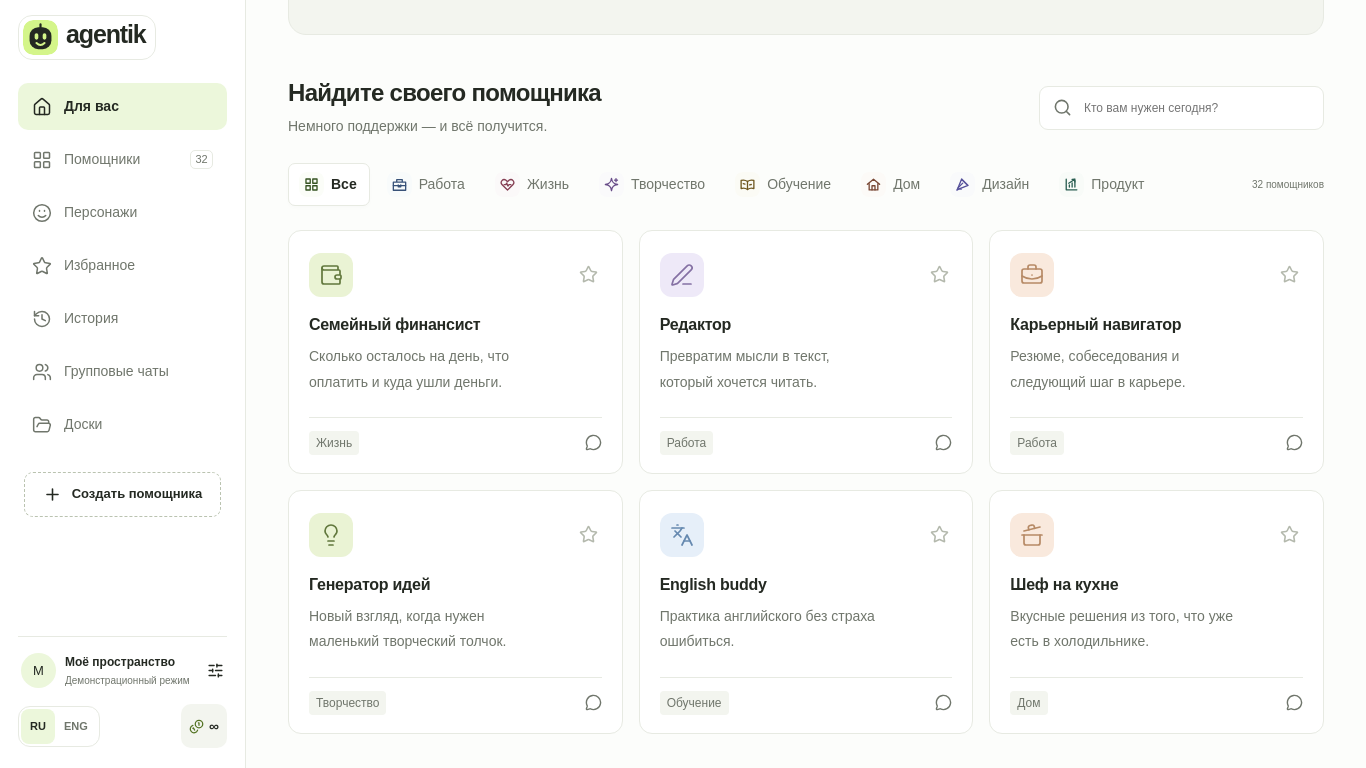
hides onboarding after the first saved chat and shows only configured announcements on home
Later steps or results of the test are not shown.
(page scrolled)
Click the link with aria-label "Открыть: Редактор": point(806, 385) [640, 297, 972, 473]
(page scrolled)
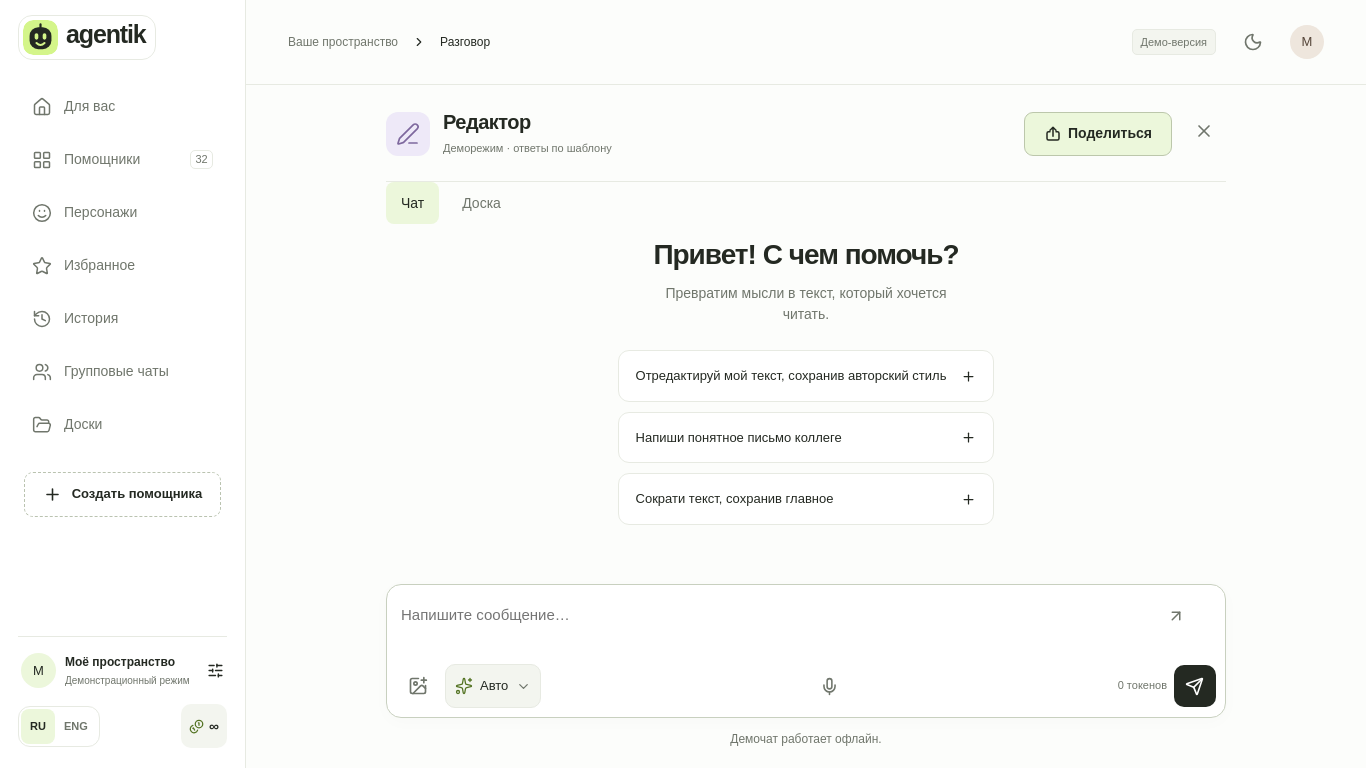
In the text box named "Ваше сообщение": point(806, 626) [396, 594, 1216, 659], type "Первый разговор"
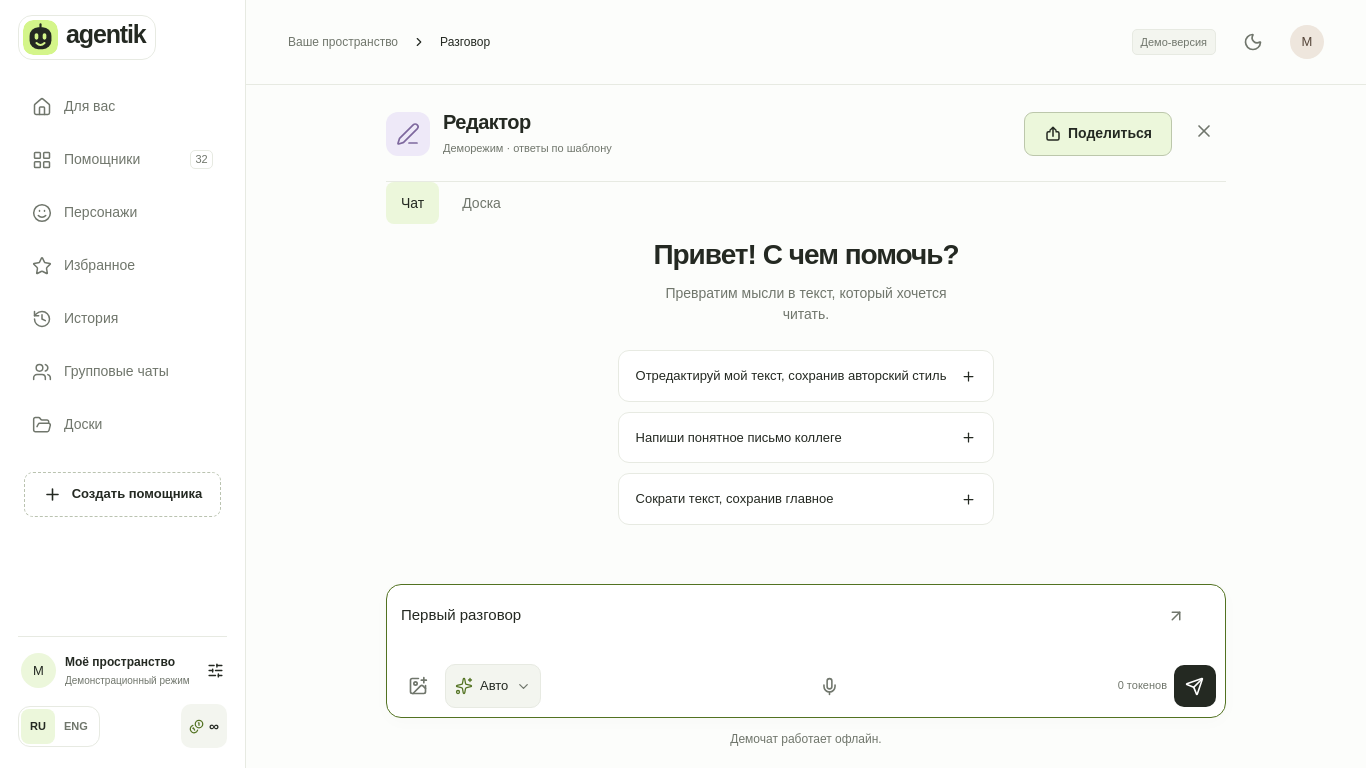
Click the button named "Отправить сообщение": point(1195, 686) [1174, 665, 1216, 707]
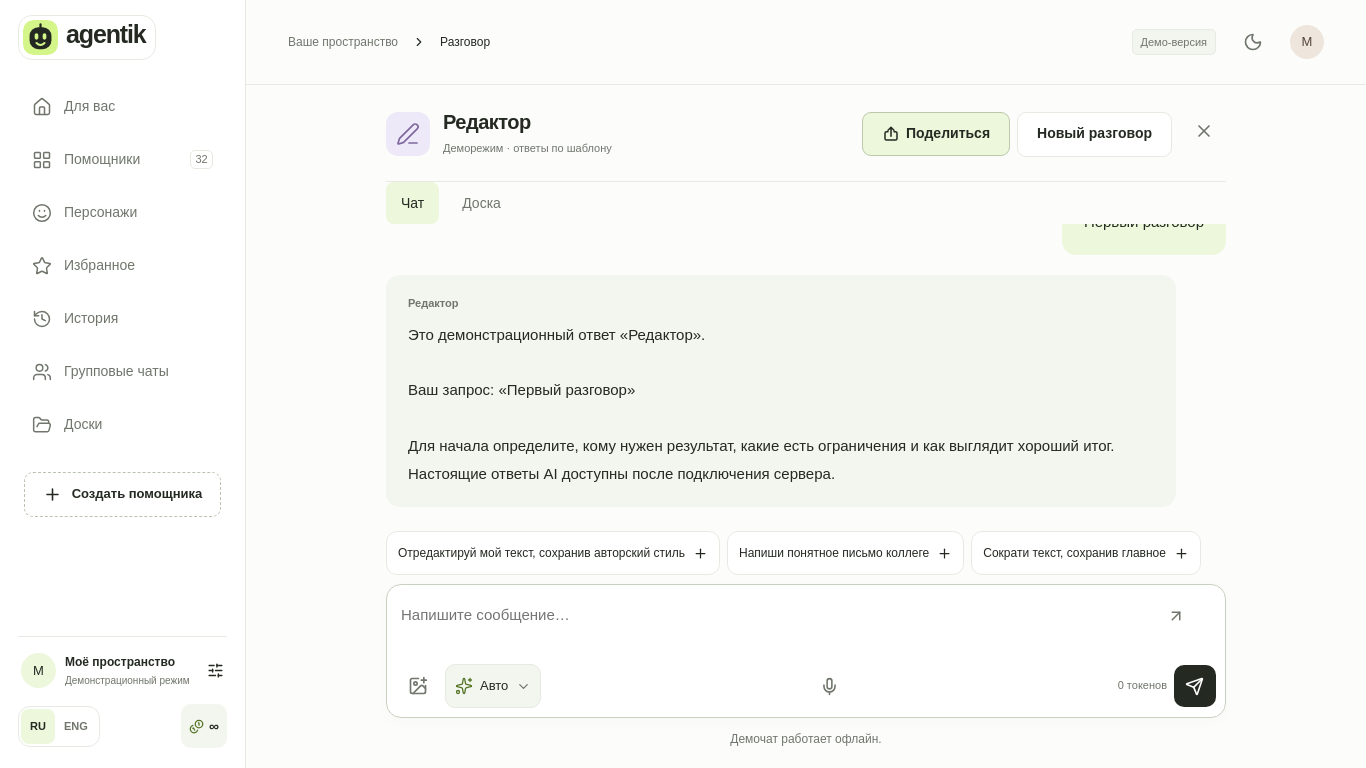
Expected: the text "Это демонстрационный ответ" is shown, [408, 326, 1119, 482]
Click the link "Для вас": point(74, 106) [32, 96, 115, 116]
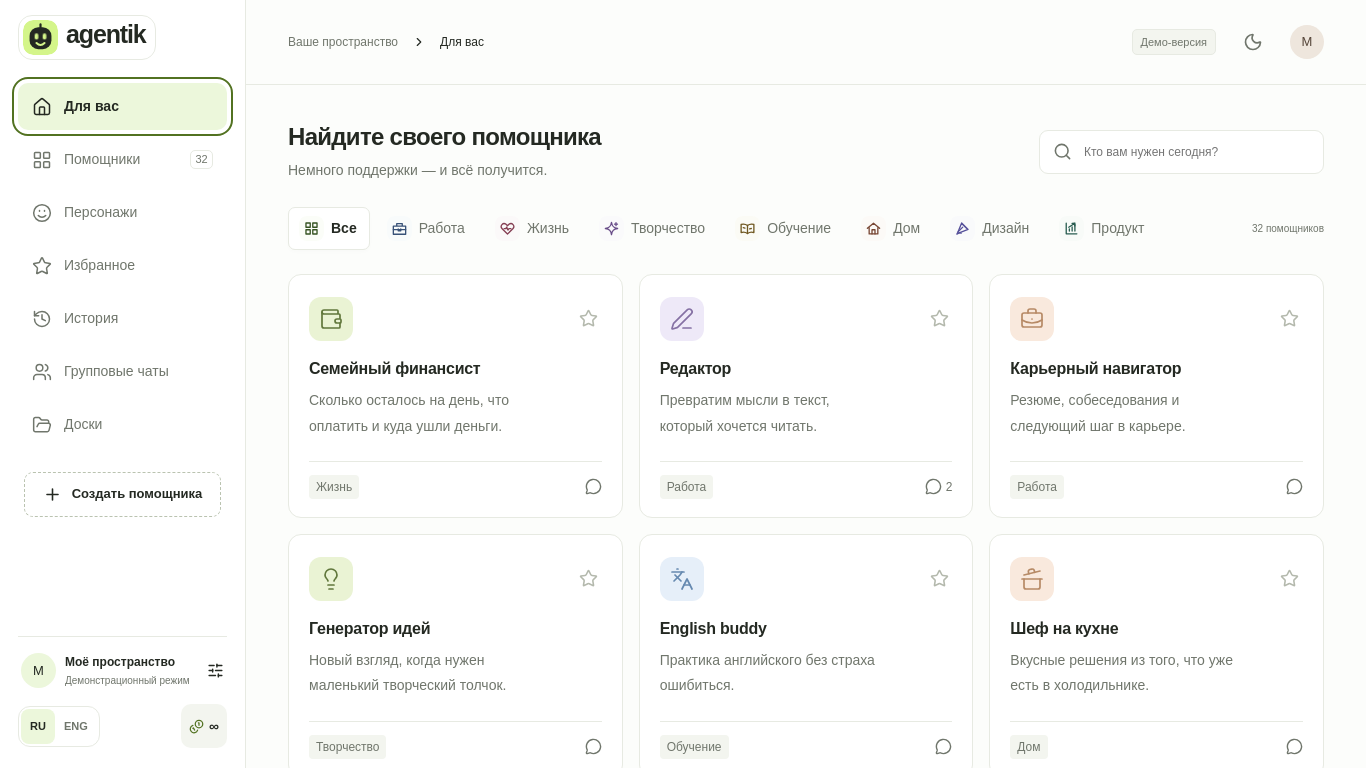
Expected: the heading "Найдите своего помощника" is shown, [288, 121, 601, 152]
